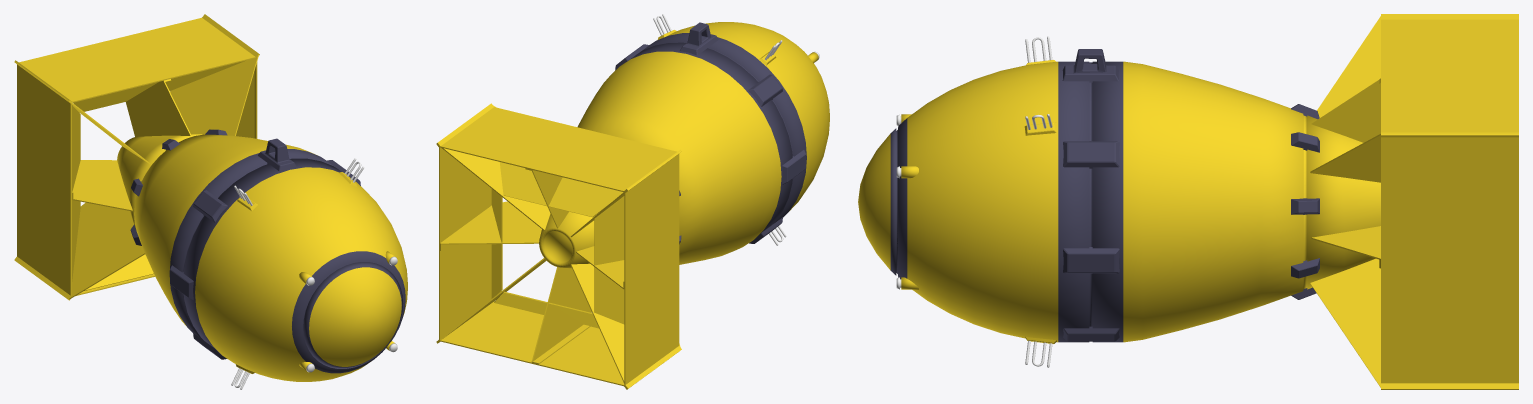
The model's file is bomb.glb.
3 renders of one model, left to right at view 1: azimuth 30°, elevation 25°; view 2: azimuth 150°, elevation 25°; view 3: azimuth 270°, elevation 25°, orthographic. The views are drawn at different scales.
Visible parts, largest first — view 1: Curve.001, Plane.039, Plane.038, Plane.032, Plane.028, Plane.035, Plane.020, Plane.022, Plane.034, Cube.031, Plane.029, Cube.020 (+5 smaller); view 2: Curve.001, Plane.039, Plane.038, Plane.037, Plane.036, Plane.023, Plane.024, Plane.028, Plane.034, Plane.021, Plane.032, Plane.027 (+11 smaller); view 3: Curve.001, Plane.037, Plane.038, Plane.031, Plane.035, Plane.026, Plane.028, Cube, Cube.018, Cube.031, Plane.024, Cube.017.
Part boxes in pixels (box(x1,y1,x2,y2)): Curve.001: box(117, 134, 407, 381); Plane.039: box(14, 61, 71, 299); Plane.038: box(15, 14, 258, 102); Plane.032: box(69, 202, 144, 299); Plane.028: box(170, 54, 258, 135); Plane.035: box(126, 79, 191, 136); Plane.020: box(72, 160, 132, 211); Plane.022: box(84, 254, 153, 290); Plane.034: box(73, 82, 158, 111); Cube.031: box(258, 138, 296, 171); Plane.029: box(236, 72, 254, 138); Cube.020: box(193, 190, 227, 222); Curve.001: box(539, 22, 829, 268); Plane.039: box(624, 150, 681, 388); Plane.038: box(437, 103, 680, 192); Plane.037: box(436, 143, 491, 342); Plane.036: box(437, 301, 668, 389); Plane.023: box(531, 267, 591, 364); Plane.024: box(440, 201, 541, 250); Plane.028: box(441, 105, 550, 230); Plane.034: box(548, 177, 623, 217); Plane.021: box(594, 196, 624, 265); Plane.032: box(570, 263, 680, 383); Plane.027: box(499, 162, 546, 205); Curve.001: box(858, 61, 1380, 342); Plane.037: box(1381, 133, 1518, 389); Plane.038: box(1381, 14, 1518, 133); Plane.031: box(1310, 258, 1380, 387); Plane.035: box(1311, 78, 1380, 142); Plane.026: box(1317, 16, 1380, 117); Plane.028: box(1310, 134, 1380, 182); Cube: box(1063, 141, 1119, 168); Cube.018: box(1063, 247, 1119, 273); Cube.031: box(1062, 49, 1118, 82); Plane.024: box(1311, 226, 1380, 268); Cube.017: box(1063, 326, 1119, 341).
Size of the model in its own units: 1.89 by 2.03 by 4.31.
